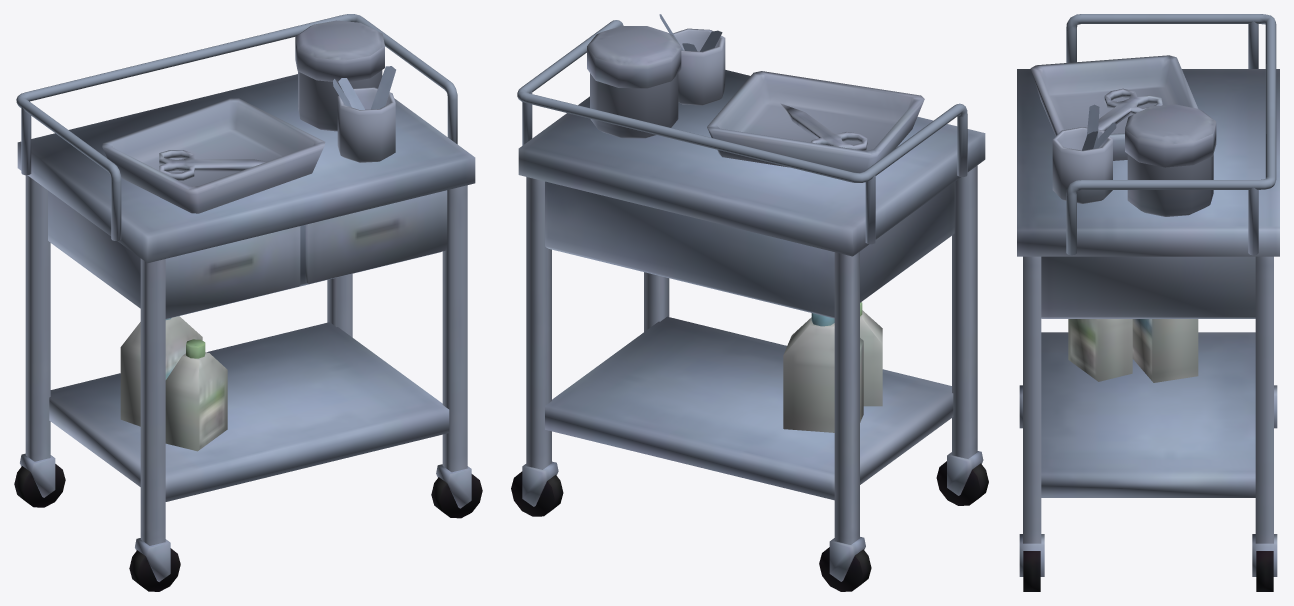
3 views of the same model, side by side, from view 1: azimuth 30°, elevation 25°; view 2: azimuth 150°, elevation 25°; view 3: azimuth 270°, elevation 25° (orthographic). The views are drawn at different scales.
Bounding box in the file's own units: 8.32 × 10.07 × 5.4.
1 material, 1 textured.
